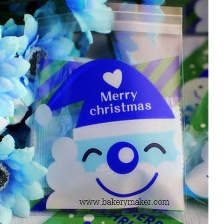snack: (20, 0, 190, 217)
